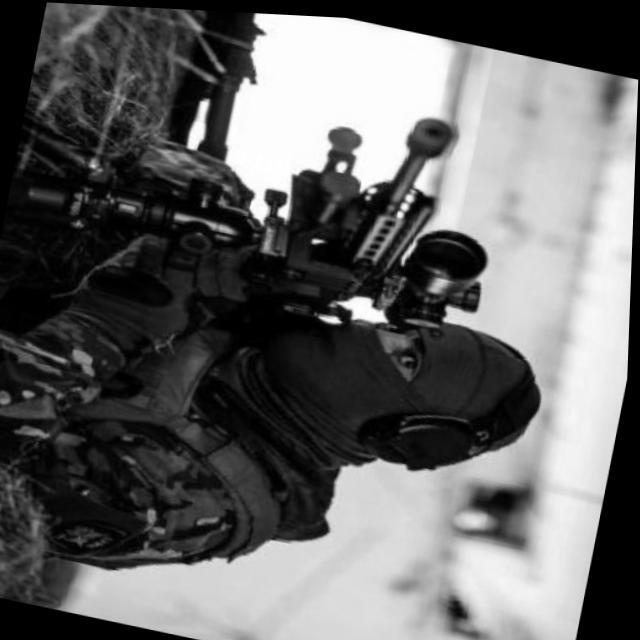weapon: (24, 34, 498, 379)
